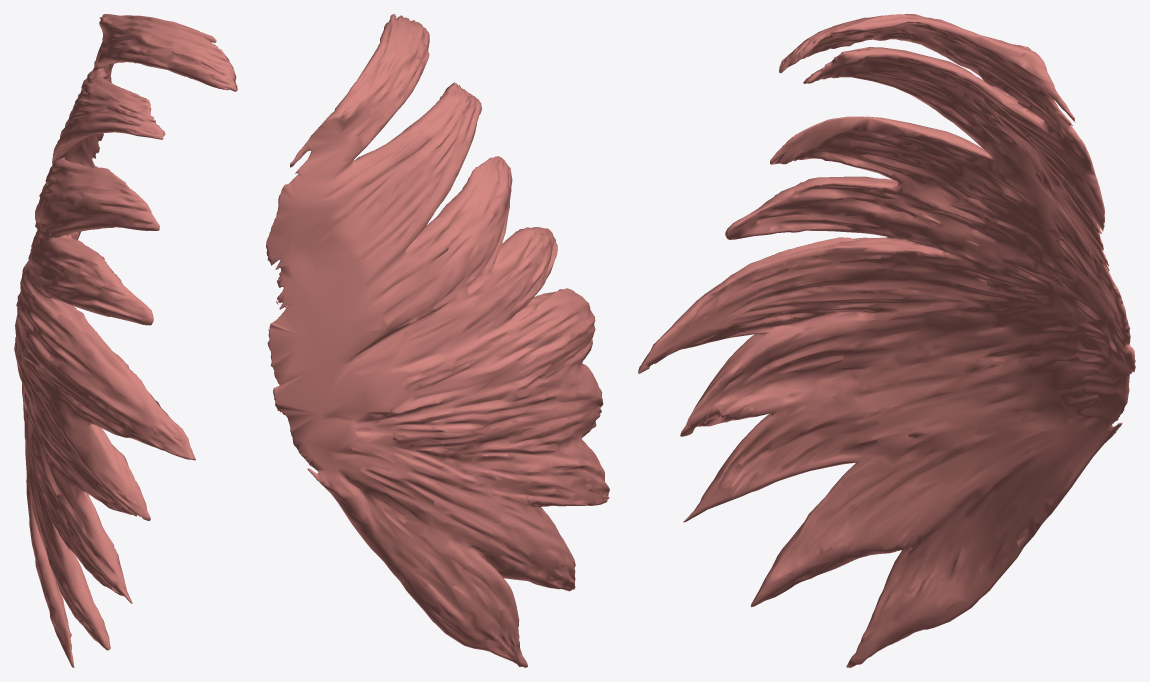
3 renders of one model, left to right at view 1: azimuth 30°, elevation 25°; view 2: azimuth 150°, elevation 25°; view 3: azimuth 270°, elevation 25°, orthographic. The views are drawn at different scales.
Visible parts, largest first — view 1: ZA_08403f159fbf29bd; view 2: ZA_08403f159fbf29bd; view 3: ZA_08403f159fbf29bd.
Part boxes in pixels (x1,y1,x2,y2): ZA_08403f159fbf29bd: (14,14,237,667); ZA_08403f159fbf29bd: (266,14,609,667); ZA_08403f159fbf29bd: (638,14,1135,667).
Bounding box in the file's own units: 0.0865 × 0.2747 × 0.1721.
